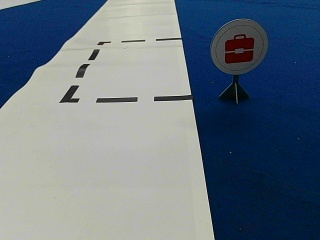company: (211, 18, 269, 73)
